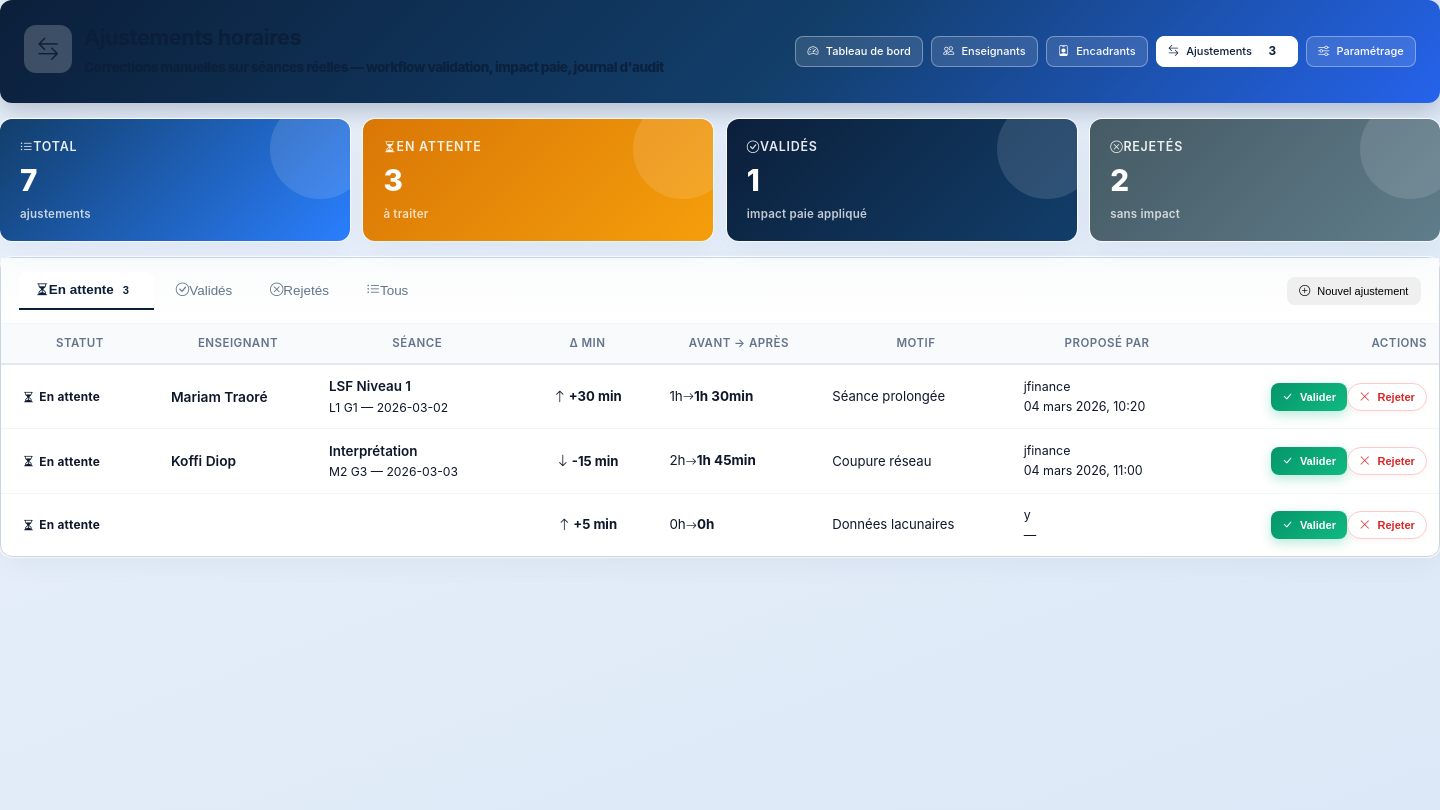
Test: pages/FinanceAjustements.jsx — workflow de validation (LOT 29) › valide un ajustement : POST valider, notification et rechargement
Click the button "Valider" in the row of "Mariam Traoré": (1309, 397) [1270,383,1347,411]
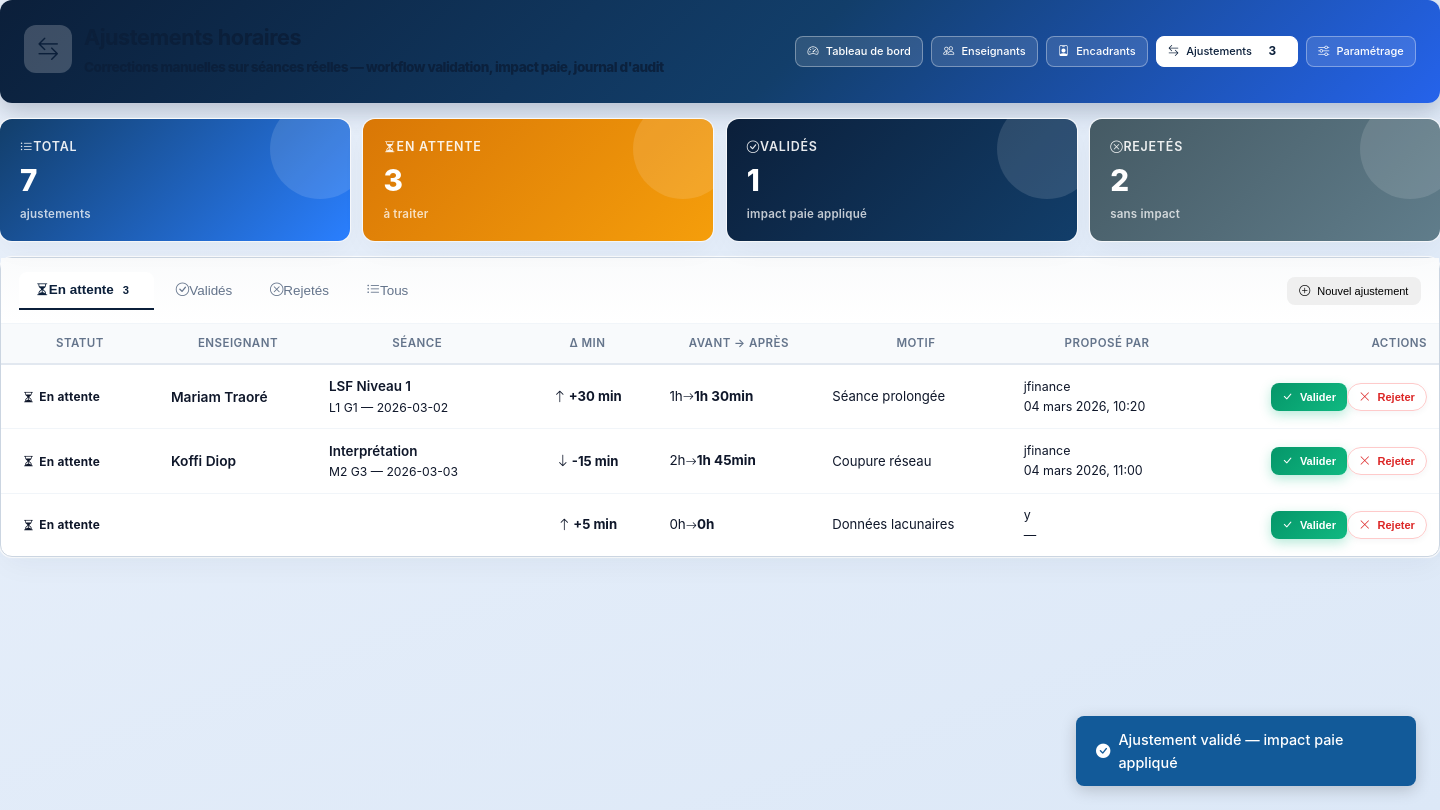
Result: the text "Ajustement validé — impact paie appliqué" is shown at [1076,716,1416,786]
